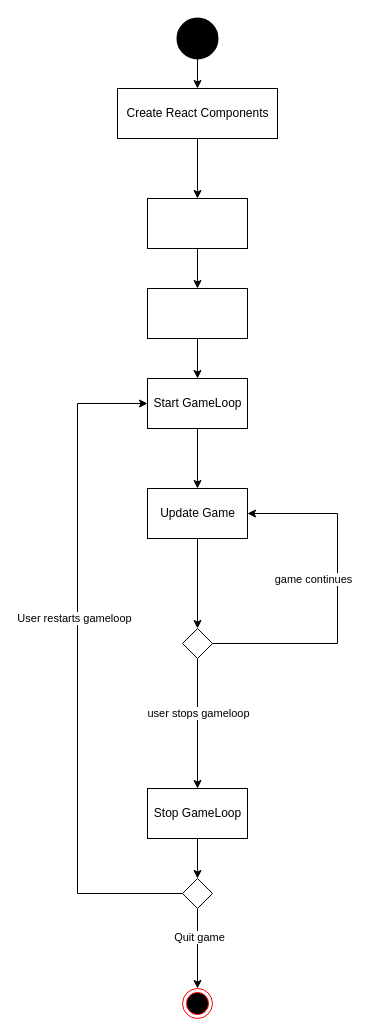
This 369x1036 diagram has some shape labels left out. Each missing label, with the centre of its shape:
"Initialize Game" goes at pixel 197 223.
"Objects Created" goes at pixel 197 313.
